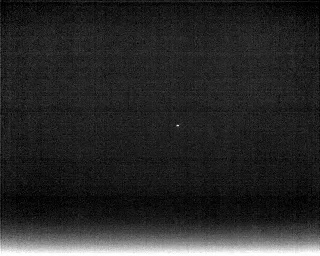AIRPLANE: (174, 121, 181, 130)
